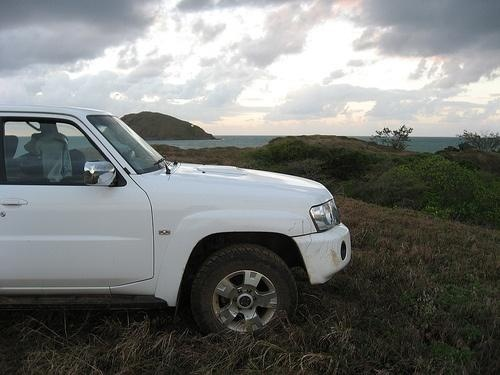car: (1, 105, 356, 340)
